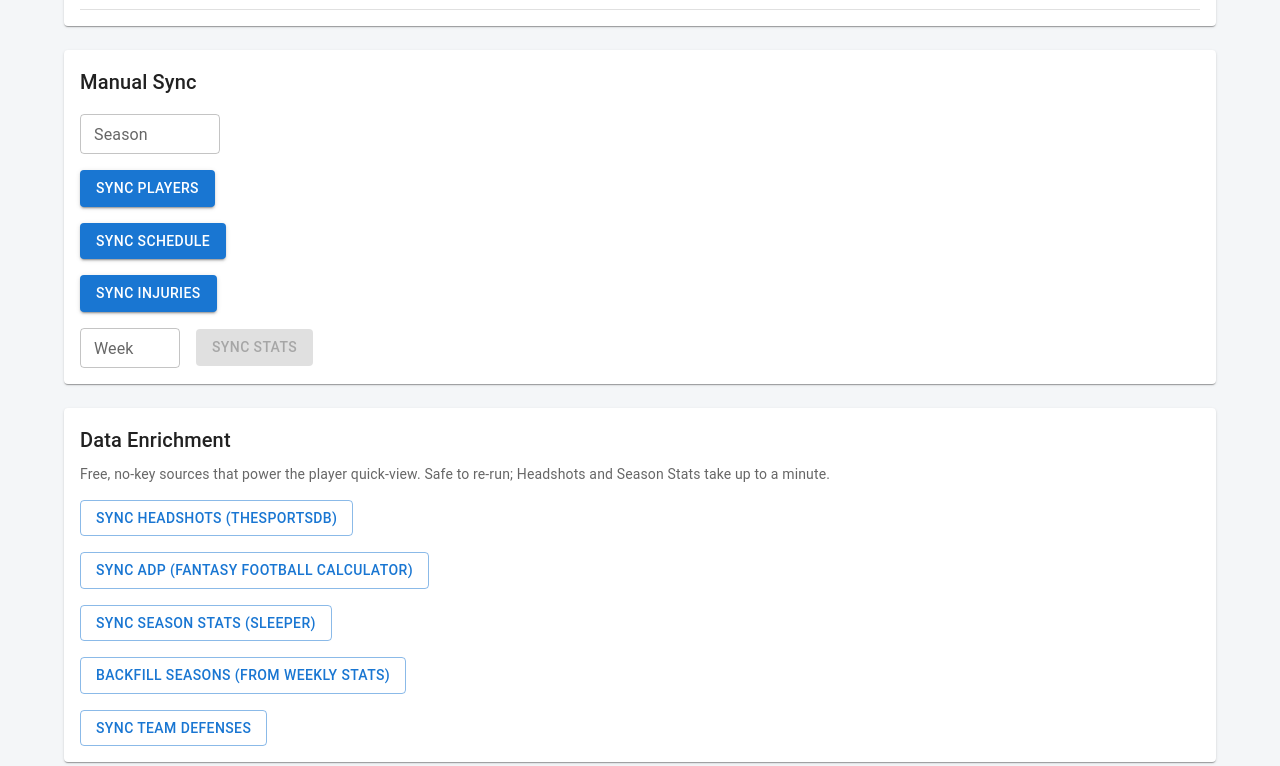
Test case: clicking an enrichment job POSTs to its admin sync route
(page scrolled)
Click the button "Sync ADP (Fantasy Football Calculator)" at (254, 570), box left=80, top=552, right=429, bottom=588
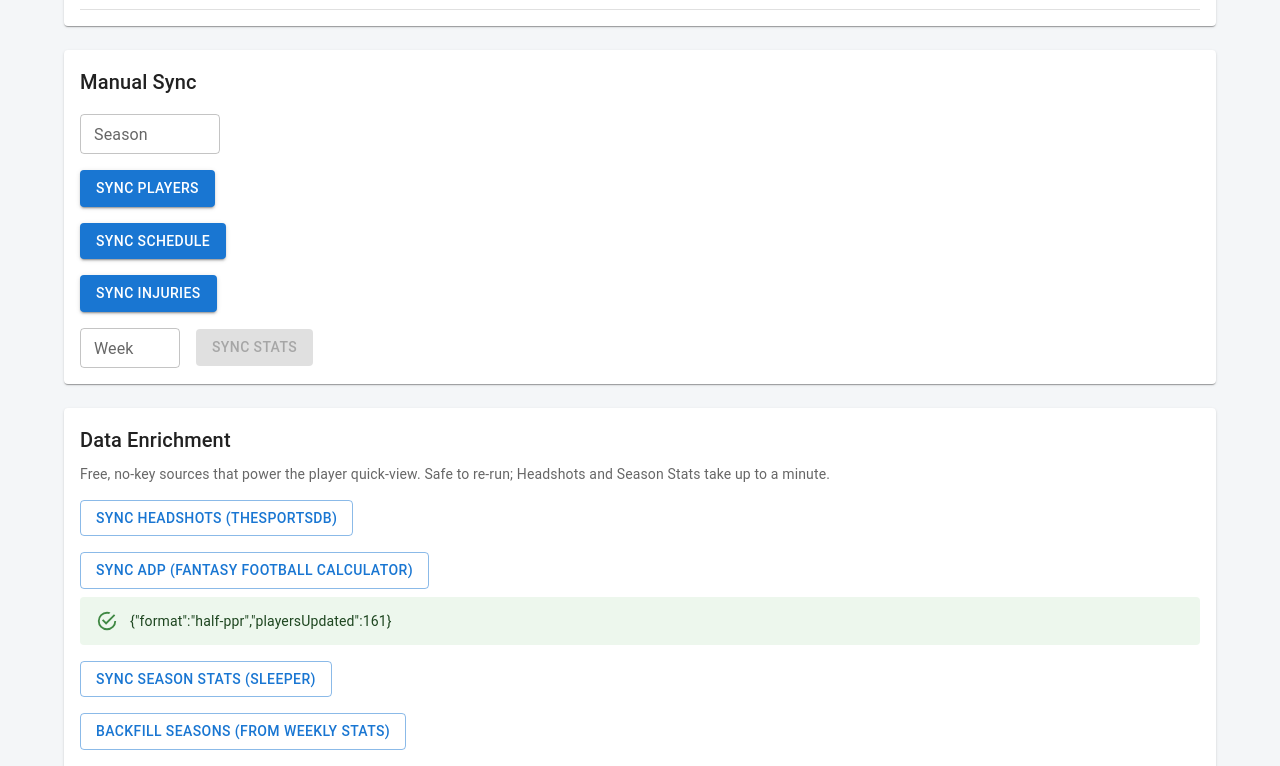
Expected: the text "{\"format\":\"half-ppr\",\"playersUpdated\":161}" is shown, left=130, top=612, right=392, bottom=628
